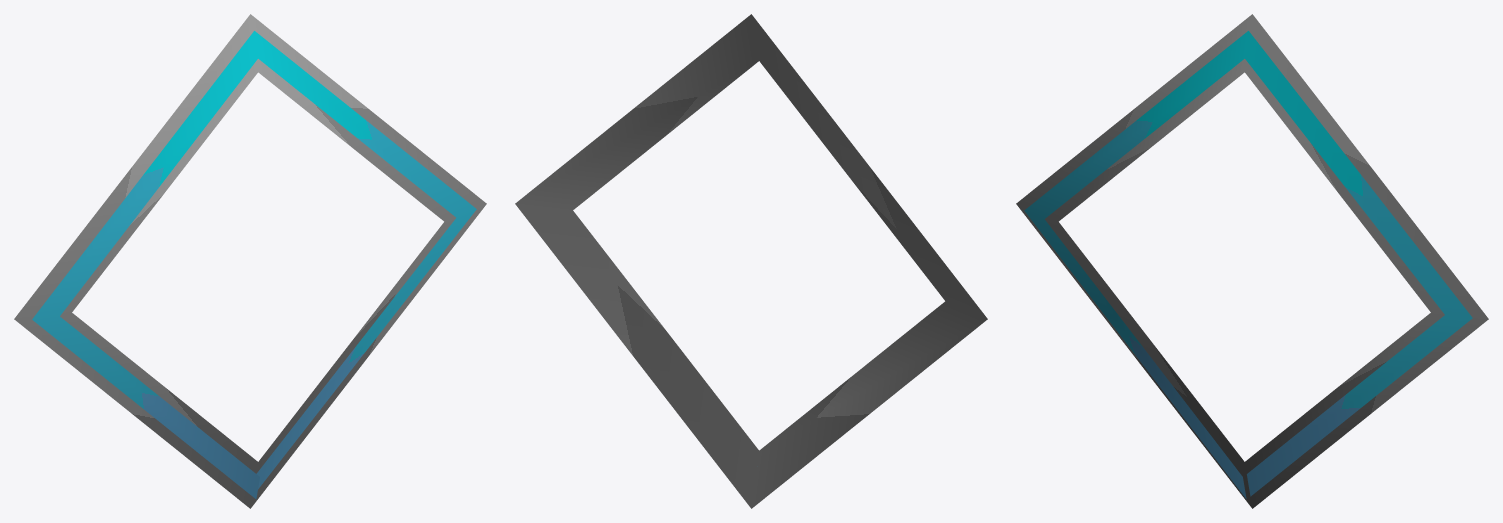
The model's file is durability.obj.
The picture shows the model from 3 angles, left to right: view 1: azimuth 30°, elevation 25°; view 2: azimuth 150°, elevation 25°; view 3: azimuth 330°, elevation 25°; orthographic projection.
Parts seen in each view (by area): view 1: base, color; view 2: base; view 3: base, color.
Boxes of the visible parts, x1=… form: base: x1=14, y1=14, x2=486, y2=508; color: x1=32, y1=31, x2=476, y2=498; base: x1=515, y1=14, x2=987, y2=508; base: x1=1016, y1=14, x2=1488, y2=508; color: x1=1024, y1=31, x2=1472, y2=498.
Bounding box in the file's own units: 141 × 141 × 4.96.
1 material, 1 textured.
